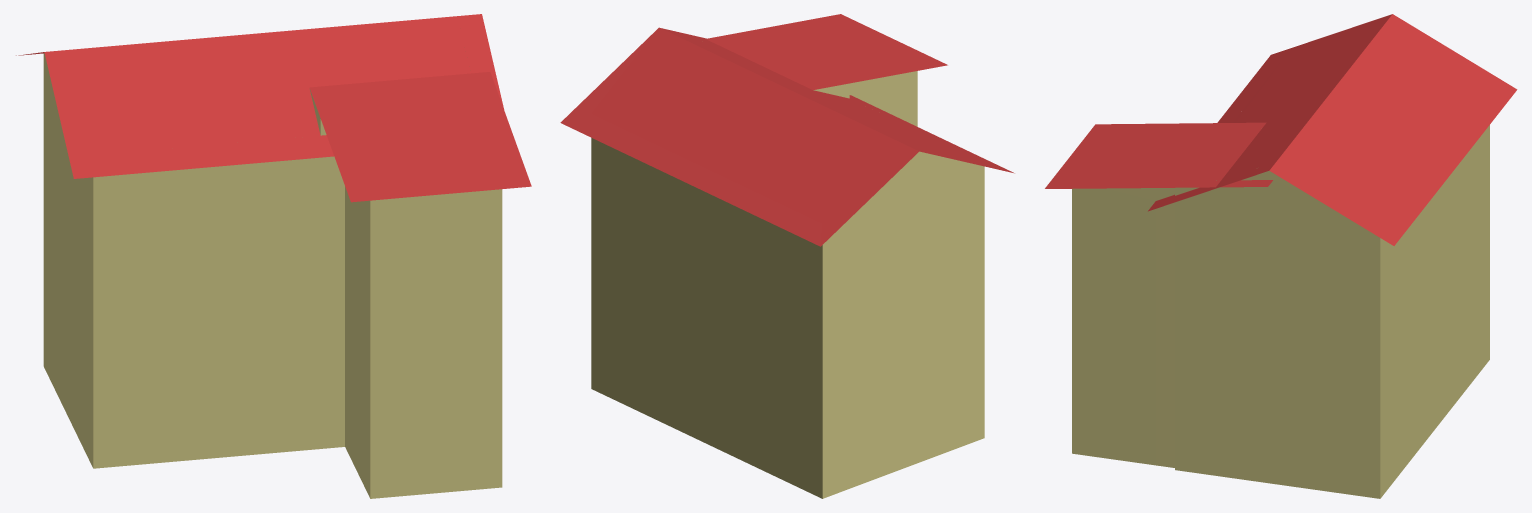
3 views of the same model, side by side, from view 1: azimuth 30°, elevation 25°; view 2: azimuth 150°, elevation 25°; view 3: azimuth 270°, elevation 25° (orthographic). The views are drawn at different scales.
Parts seen in each view (by area): view 1: group_5, group_9, group_3, group_7, group_4, group_8; view 2: group_5, group_3, group_7, group_4, group_9, group_8; view 3: group_5, group_3, group_9, group_7, group_4, group_8.
Part boxes in pixels (x1,y1,x2,y2): group_5: (43, 53, 349, 468); group_9: (310, 90, 502, 498); group_3: (16, 14, 504, 178); group_7: (309, 72, 531, 202); group_4: (45, 22, 500, 178); group_8: (321, 72, 531, 201); group_5: (591, 138, 984, 498); group_3: (560, 27, 1012, 246); group_7: (706, 14, 946, 89); group_4: (563, 28, 1013, 245); group_9: (813, 71, 917, 126); group_8: (707, 14, 947, 83); group_5: (1155, 125, 1489, 498); group_3: (1148, 14, 1517, 245); group_9: (1072, 180, 1216, 465); group_7: (1045, 122, 1272, 188); group_4: (1148, 15, 1514, 243); group_8: (1045, 123, 1271, 188).
Size of the model in its own units: 15.56 by 16.25 by 12.22.
